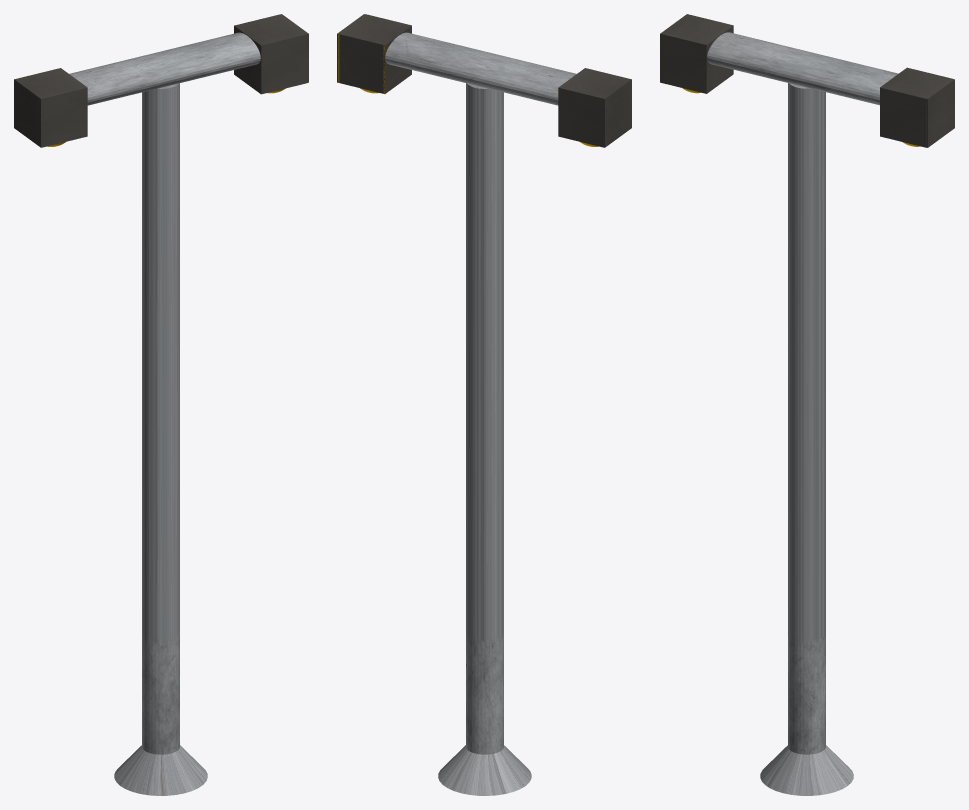
The model's file is fener.fbx.
3 renders of one model, left to right at view 1: azimuth 30°, elevation 25°; view 2: azimuth 150°, elevation 25°; view 3: azimuth 330°, elevation 25°, orthographic.
Parts seen in each view (by area): view 1: Cylinder; view 2: Cylinder; view 3: Cylinder.
Boxes of the visible parts, x1,y1,x2,y2 form: Cylinder: (14,14,308,795); Cylinder: (337,14,631,795); Cylinder: (660,14,954,795).
Size of the model in its own units: 438 by 1126 by 133.
